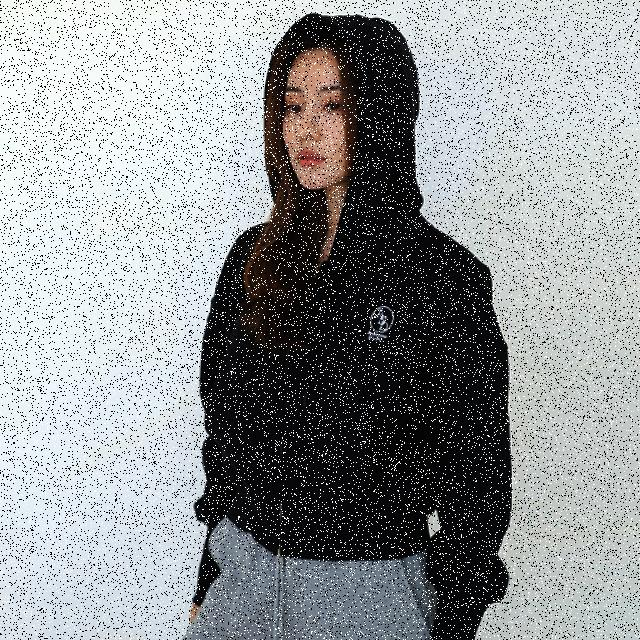Blouse_deep: (191, 17, 512, 640)
